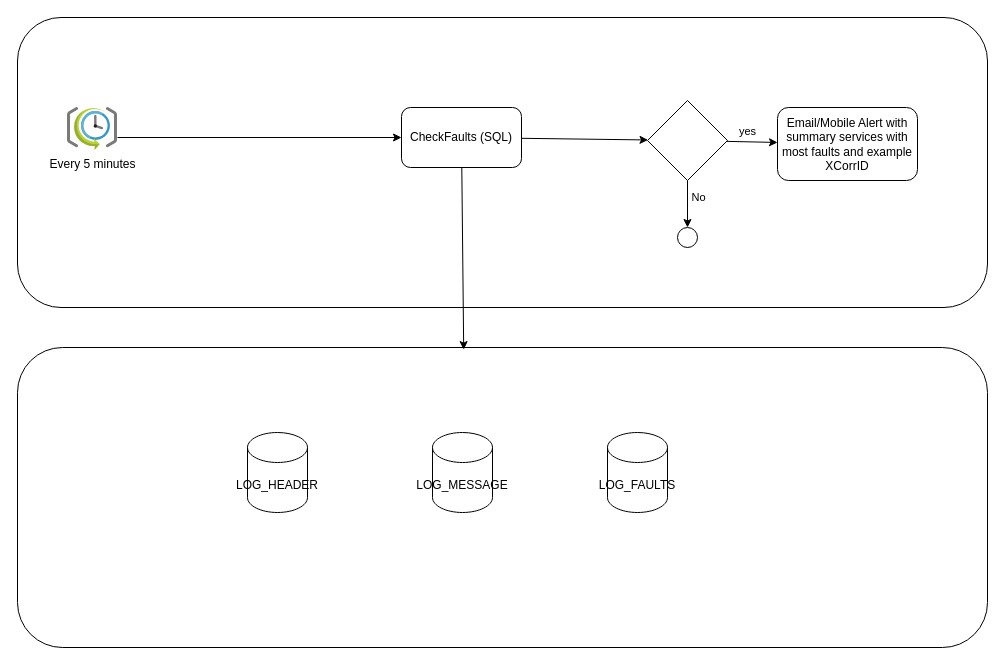
The diagram is 1005 pixels wide and 665 high, and some of its shapes have lost their labels. The shapes that lost their labels are listed below. From the top down, each one's box as (x1, y1, x2, y2) in pixels, then its label:
(646, 100, 728, 180): faults > threshold
(16, 16, 988, 308): Oracle Integration Cloud OIC
(16, 346, 988, 648): Oracle Autonaomous database / ATP Logging Database
